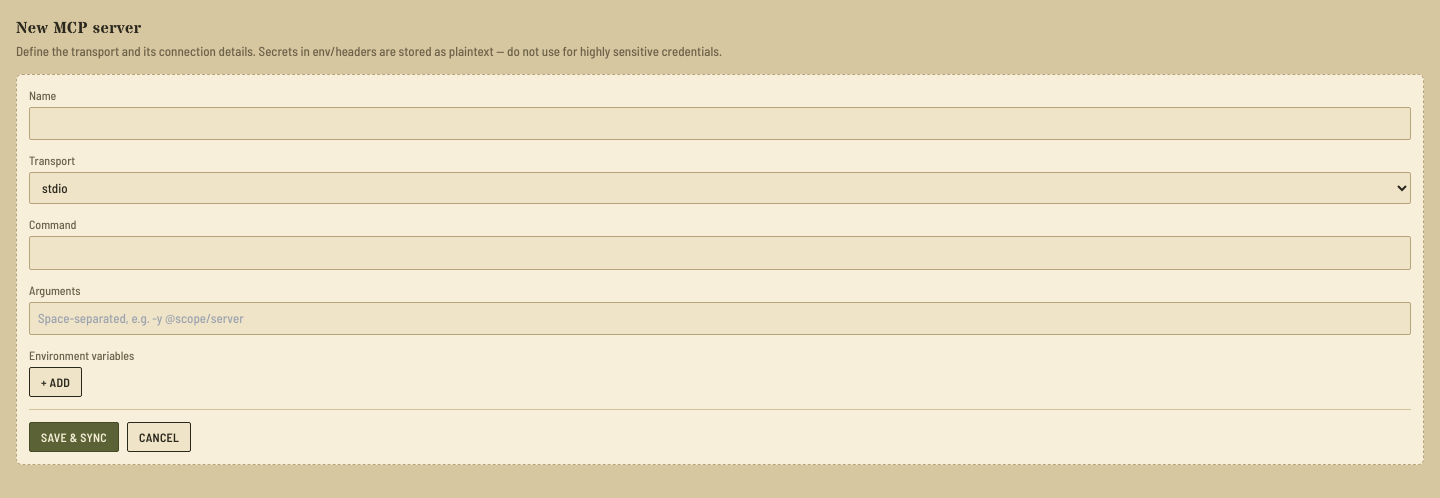
Test: McpServerEditor › switching transport to http swaps to url/headers and hides command
Select "http" in the dropdown with test id "mcp-transport" at (720,188), box [29,172,1411,204]
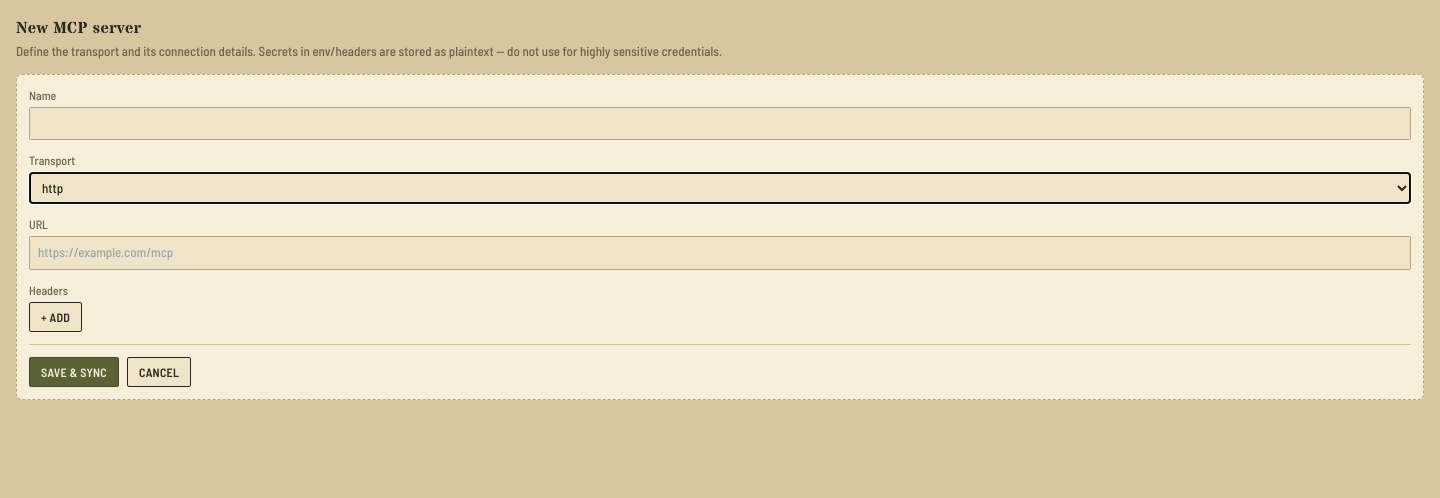
Result: the element with test id "mcp-remote-fields" is shown at [29,216,1411,332]
Result: the field with test id "mcp-url" is shown at [29,236,1411,270]
Result: the field with test id "mcp-command" is gone
